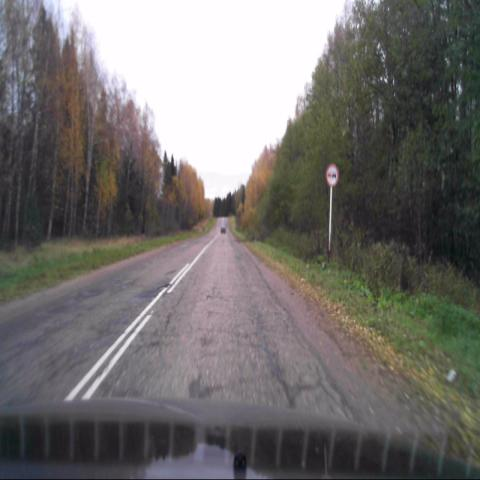3_20: (325, 163, 338, 185)
